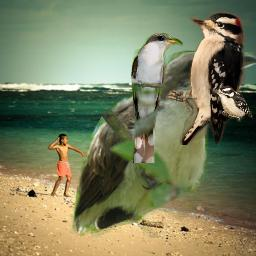Cuckoo: (69, 49, 256, 238), (130, 32, 183, 163)
Woodpecker: (166, 9, 246, 145), (212, 86, 253, 122)
